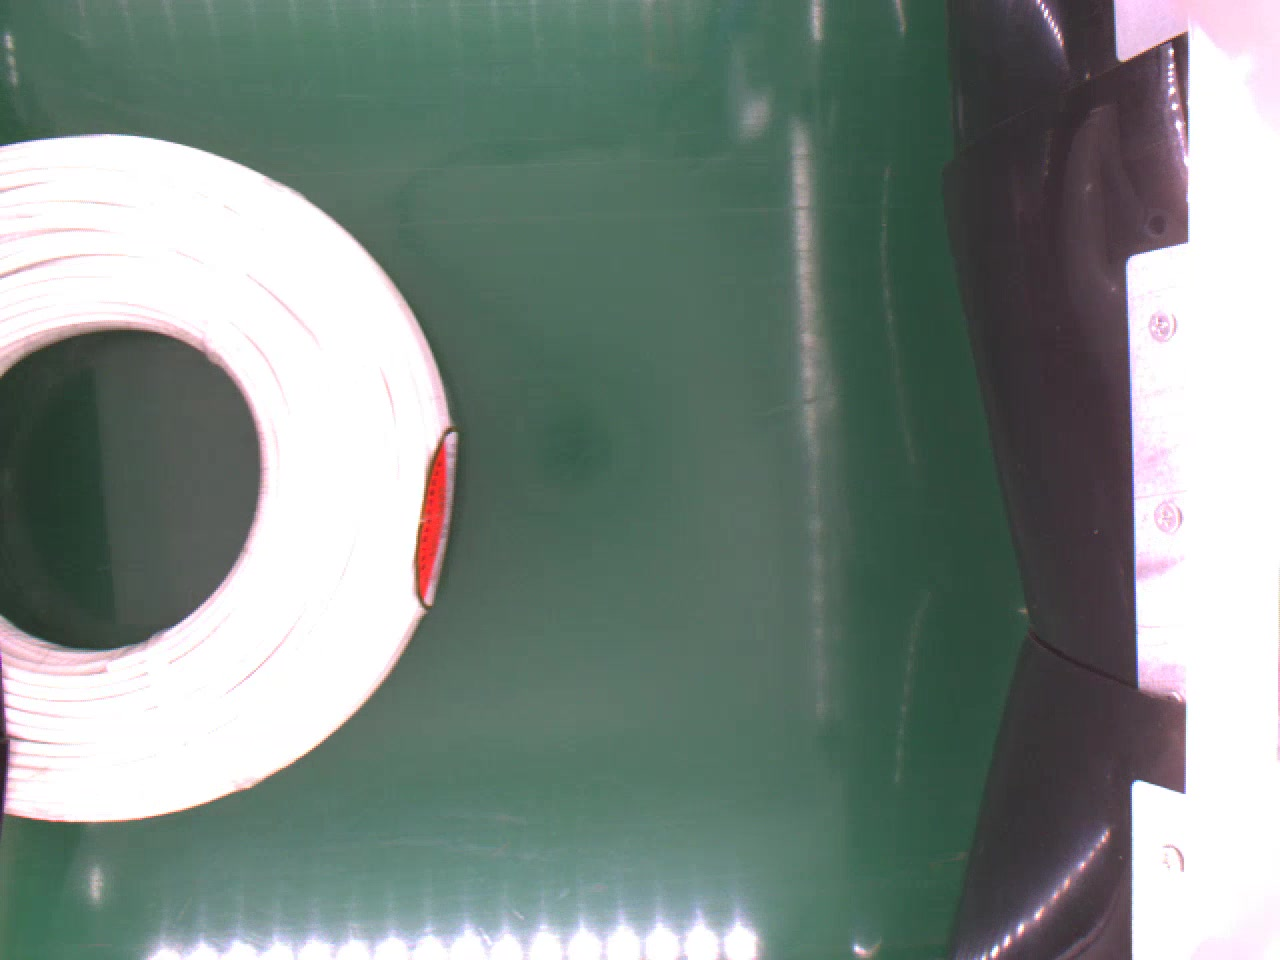white: (0, 128, 460, 831)
